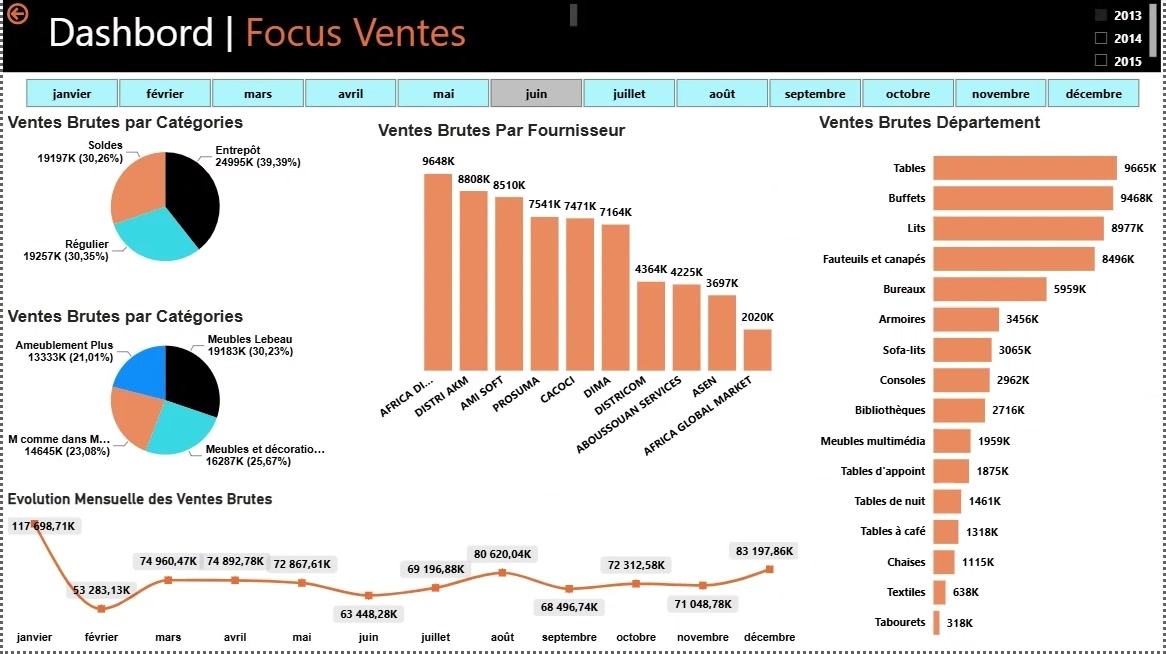

This screenshot's page, from the dashboard's own definition file:
{"tool":"powerbi","page":{"name":"Focus Ventes Brutes","canvas":[1280,720],"ordinal":6},"visuals":[{"type":"shape","box":[0,0,1278.8,81.2],"z":0},{"type":"textbox","box":[45.2,0,594.5,63.2],"z":1000},{"type":"slicer","fields":{"Values":["DimDates.Année"]},"box":[1192.7,0,86.1,81.2],"z":2000},{"type":"slicer","fields":{"Values":["DimDates.Mois"]},"box":[0,81.2,1278.8,44.7],"z":3000},{"type":"barChart","title":"Ventes Brutes Département","fields":{"Category":["DimDept1.Nom du département"],"Y":["Tbl_mesure.VentesBrutes"]},"box":[896.2,125.9,382.6,594.7],"z":4000},{"type":"lineChart","title":"Evolution Mensuelle des Ventes Brutes ","fields":{"Y":["Tbl_mesure.VentesBrutes"],"Category":["DimDates.Mois"]},"box":[0,541.7,882.9,178.9],"z":5000},{"type":"columnChart","title":"Ventes Brutes Par Fournisseur","fields":{"Category":["DimFournisseur.Nom du fournisseur"],"Y":["Tbl_mesure.VentesBrutes"]},"box":[409.2,134.2,460.5,390.9],"z":6000},{"type":"pieChart","title":"Ventes Brutes par Catégories","fields":{"Y":["Tbl_mesure.VentesBrutes"],"Category":["DimCategorie.Nom de la catégorie"]},"box":[0,125.9,357.8,185.5],"z":7000},{"type":"pieChart","title":"Ventes Brutes  par Catégories","fields":{"Y":["Tbl_mesure.VentesBrutes"],"Category":["DimBanniere.Nom de la bannière"]},"box":[0,339.6,357.8,185.5],"z":8000},{"type":"actionButton","box":[0,0,45.2,32.5],"z":9000},{"type":"shape","box":[45.2,10.8,571,70.5],"z":10000}]}

Visuals, with their boxes in screenshot pixels (x1, y1, x2, y2), scaled from the page's 1280x720 canvas onto the 1166x654 screenshot:
shape: <region>0, 0, 1165, 74</region>
textbox: <region>41, 0, 583, 57</region>
slicer - DimDates.Année: <region>1086, 0, 1165, 74</region>
slicer - DimDates.Mois: <region>0, 74, 1165, 114</region>
"Ventes Brutes Département" barChart: <region>816, 114, 1165, 653</region>
"Evolution Mensuelle des Ventes Brutes " lineChart: <region>0, 492, 804, 653</region>
"Ventes Brutes Par Fournisseur" columnChart: <region>373, 122, 792, 477</region>
"Ventes Brutes par Catégories" pieChart: <region>0, 114, 326, 283</region>
"Ventes Brutes  par Catégories" pieChart: <region>0, 308, 326, 477</region>
actionButton: <region>0, 0, 41, 30</region>
shape: <region>41, 10, 561, 74</region>
